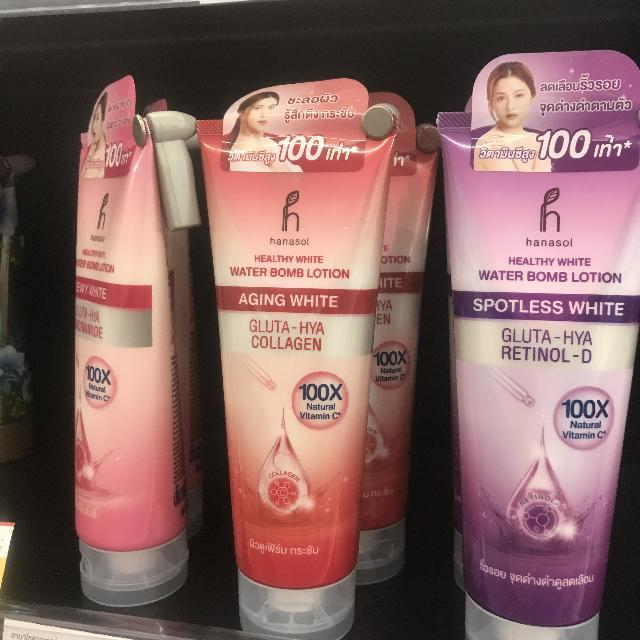Squeeze Tube: (434, 49, 640, 640), (212, 86, 418, 632), (63, 74, 208, 612)
